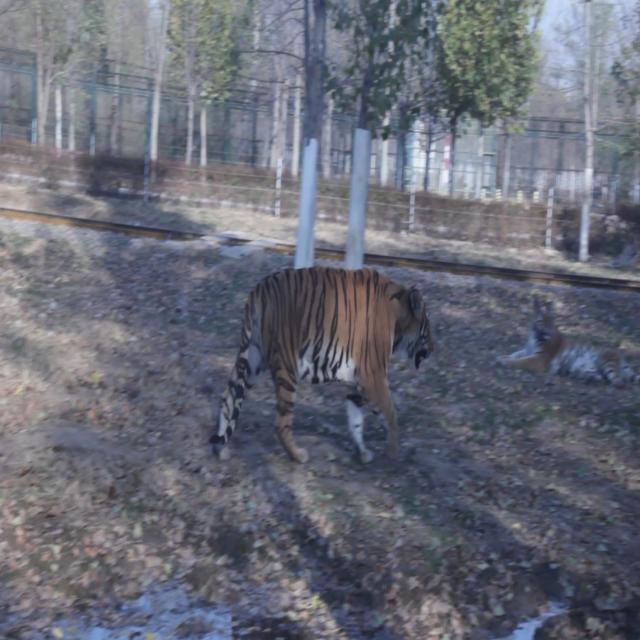Tiger: (203, 244, 460, 484), (505, 285, 635, 395)
